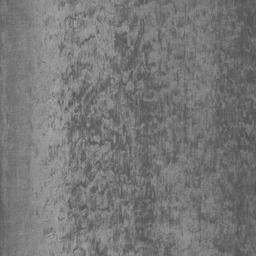Silk spot: (21, 0, 256, 256)
